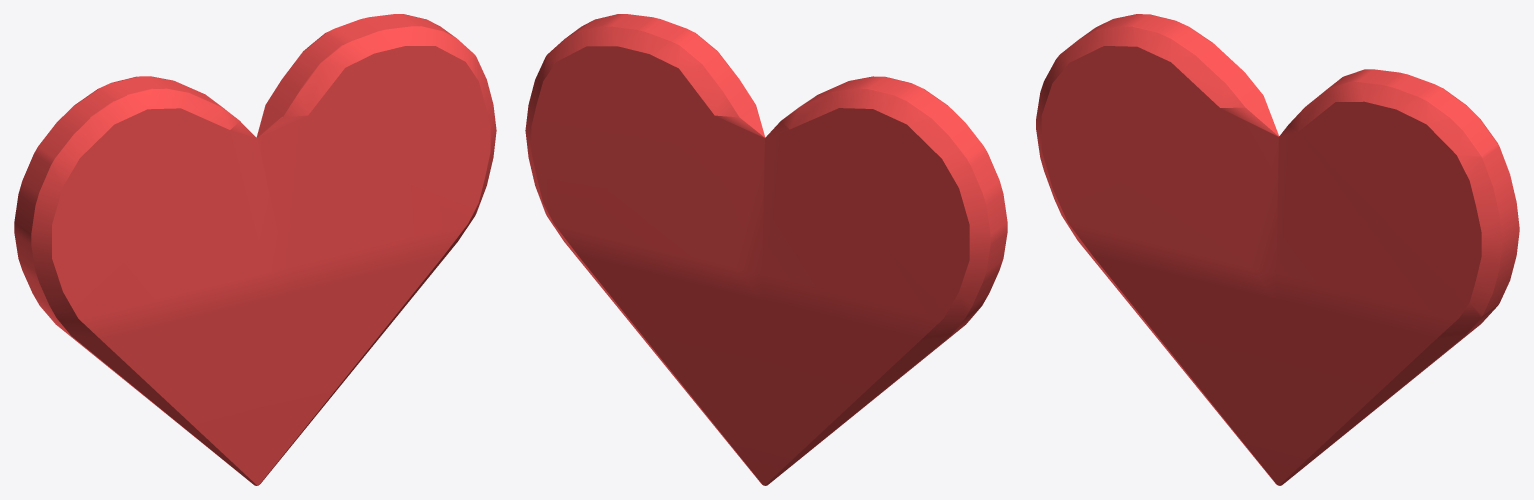
File: heart.glb
3 views of the same model, side by side, from view 1: azimuth 30°, elevation 25°; view 2: azimuth 150°, elevation 25°; view 3: azimuth 330°, elevation 25° (orthographic).
Parts seen in each view (by area): view 1: Box - baked; view 2: Box - baked; view 3: Box - baked.
Boxes of the visible parts, x1=… form: Box - baked: x1=14, y1=14, x2=496, y2=485; Box - baked: x1=525, y1=14, x2=1007, y2=485; Box - baked: x1=1036, y1=14, x2=1519, y2=485.
Bounding box in the file's own units: 0.1147 × 0.102 × 0.0138.
